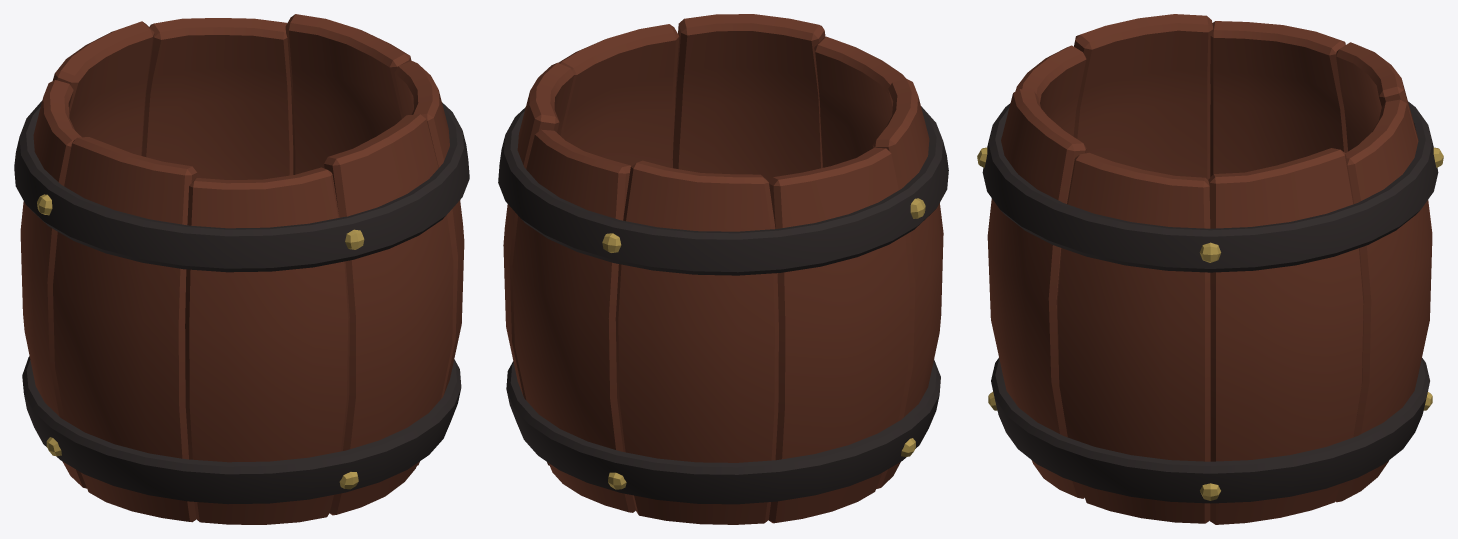
The model's file is SM_Bucket.fbx.
3 views of the same model, side by side, from view 1: azimuth 30°, elevation 25°; view 2: azimuth 150°, elevation 25°; view 3: azimuth 270°, elevation 25° (orthographic).
Parts seen in each view (by area): view 1: SM_Bucket; view 2: SM_Bucket; view 3: SM_Bucket.
Boxes of the visible parts, <box> form: SM_Bucket: <box>14,14,469,524</box>; SM_Bucket: <box>498,14,948,524</box>; SM_Bucket: <box>977,14,1443,524</box>.
Bounding box in the file's own units: 89.69 × 77.76 × 89.69.
